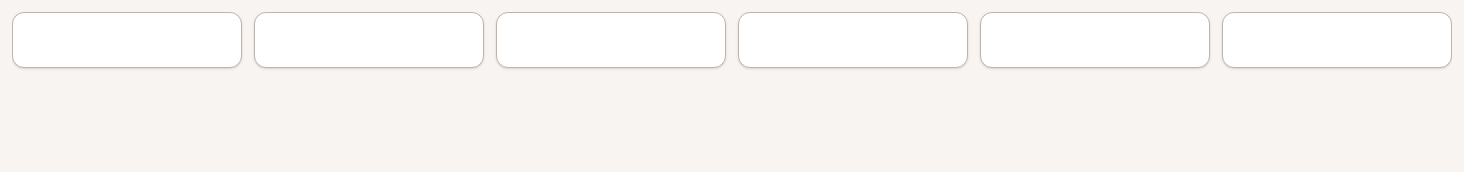
OtpInput › advances focus as digits are typed and completes at six
Click the field named "Digit 1 of 6": point(127, 40) [12,12,242,68]
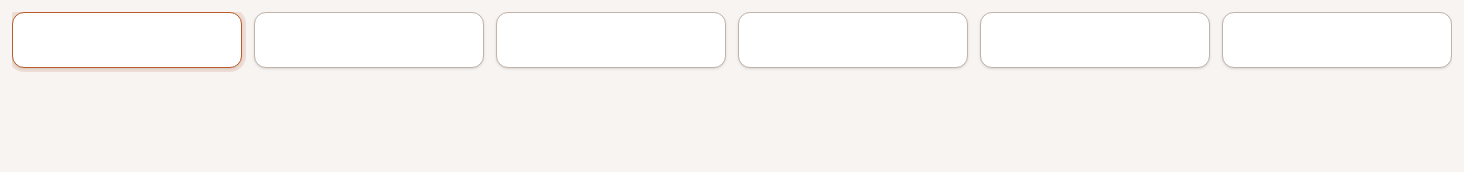
Type keys "123456"
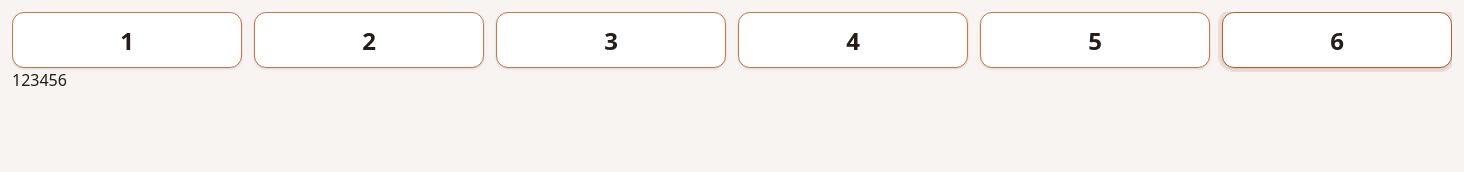
expect the text with test id "value" reads "123456": met, box [12,69,67,91]
